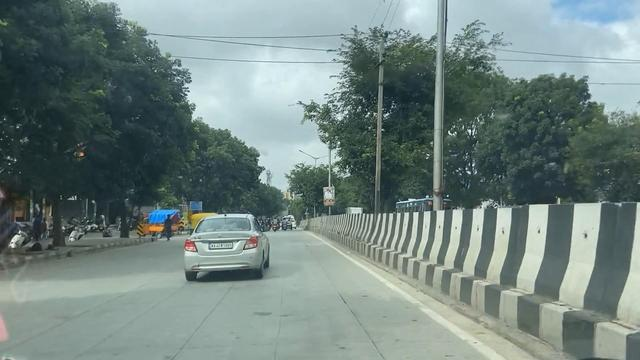LMV: (181, 213, 270, 276)
